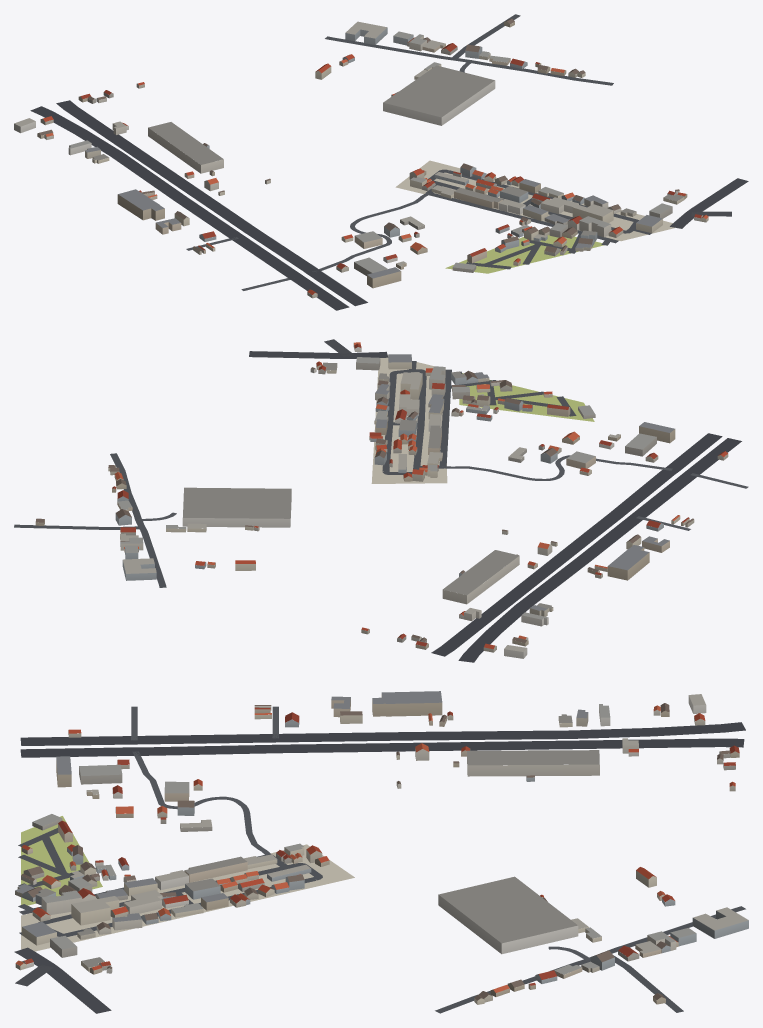
3 views of the same model, one above another, from view 1: azimuth 30°, elevation 25°; view 2: azimuth 150°, elevation 25°; view 3: azimuth 270°, elevation 25° (orthographic). The views are drawn at different scales.
Visible parts, largest first — view 1: buildings_roofs, roads, buildings_walls, landuse; view 2: roads, buildings_roofs, buildings_walls, landuse; view 3: buildings_roofs, roads, buildings_walls, landuse.
Boxes of the visible parts, x1=… form: buildings_roofs: x1=14, y1=18, x2=708, y2=294; roads: x1=30, y1=14, x2=748, y2=310; buildings_walls: x1=14, y1=21, x2=708, y2=298; landuse: x1=395, y1=160, x2=674, y2=273; roads: x1=14, y1=339, x2=748, y2=662; buildings_roofs: x1=35, y1=342, x2=727, y2=651; buildings_walls: x1=35, y1=343, x2=728, y2=658; landuse: x1=371, y1=355, x2=594, y2=483; buildings_roofs: x1=15, y1=691, x2=748, y2=1000; roads: x1=14, y1=706, x2=745, y2=1013; buildings_walls: x1=15, y1=694, x2=748, y2=1004; landuse: x1=21, y1=816, x2=354, y2=951.
Size of the model in its own units: 510 by 9.73 by 508.
